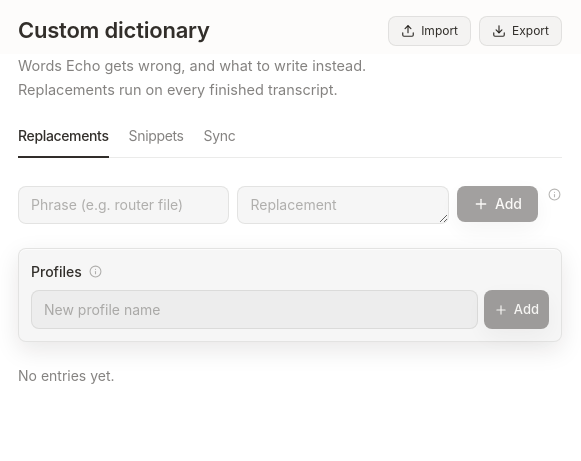
Test case: dictionary sync › mounts on the dictionary page and says the file is unencrypted
The image size is (581, 461).
Step 1. Click the button "Sync" → (219, 142), box [204, 125, 235, 158]
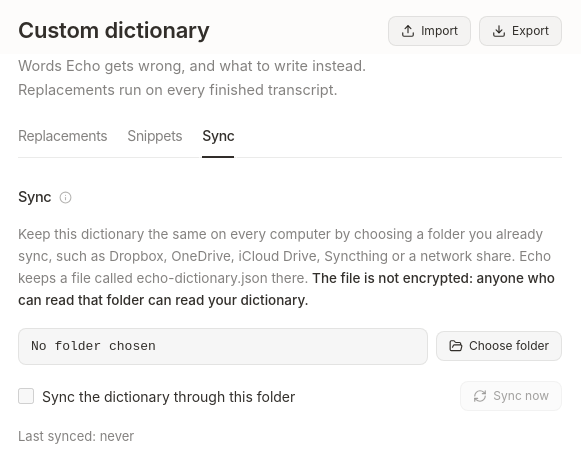
Now the heading "Sync" is shown, box [18, 188, 73, 205]
Now the text "not encrypted" is shown, box [18, 270, 555, 308]
Now the text "Last synced: never" is shown, box [18, 428, 134, 444]
